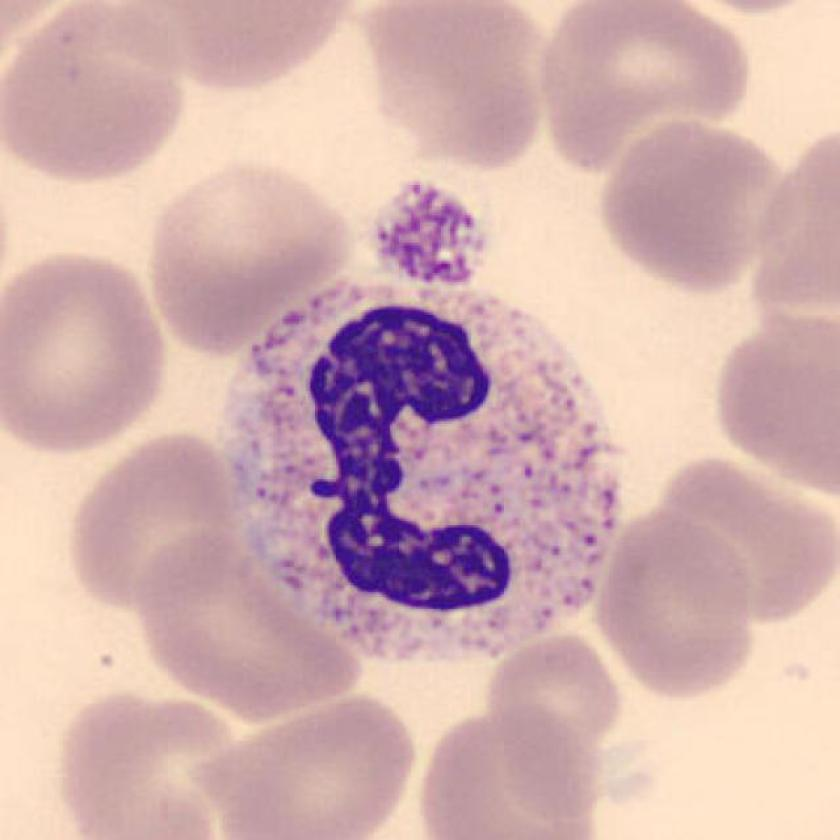neutrophil: (220, 278, 618, 662)
